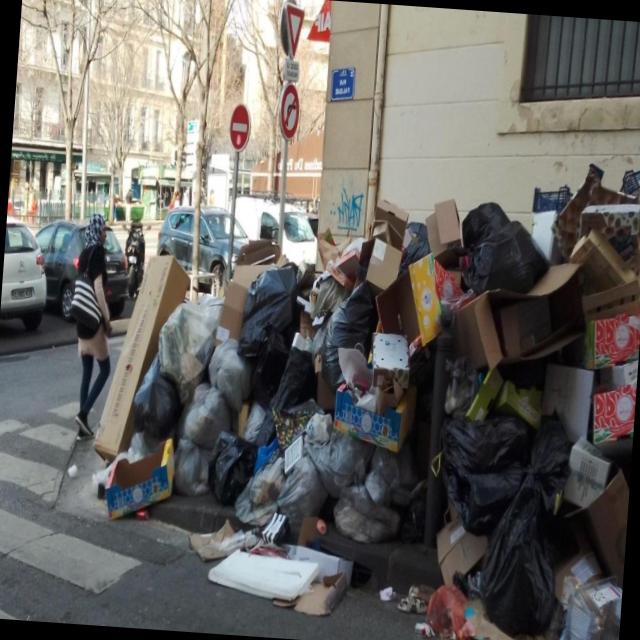garbage: (107, 119, 640, 640)
